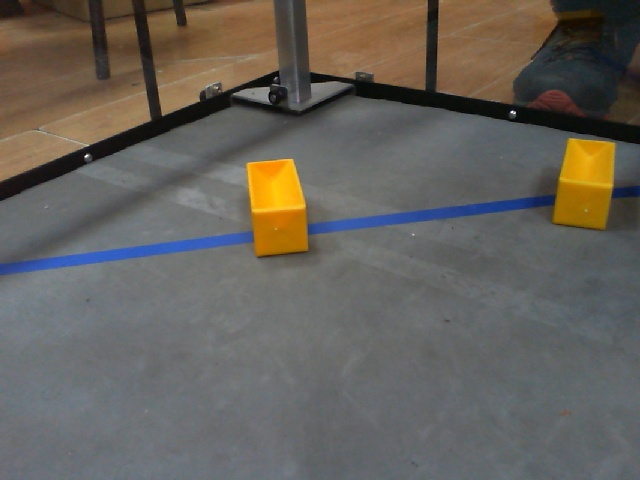YellowSample: (239, 153, 315, 263), (551, 131, 618, 234)
